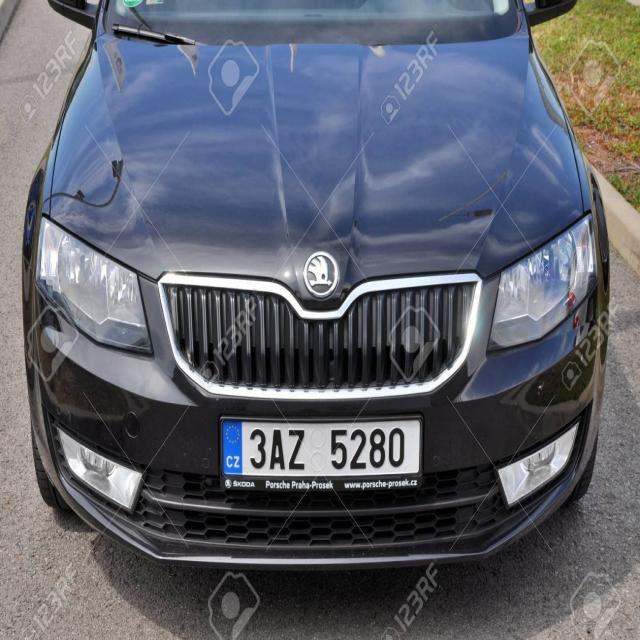Number-Plate: (218, 423, 422, 473)
